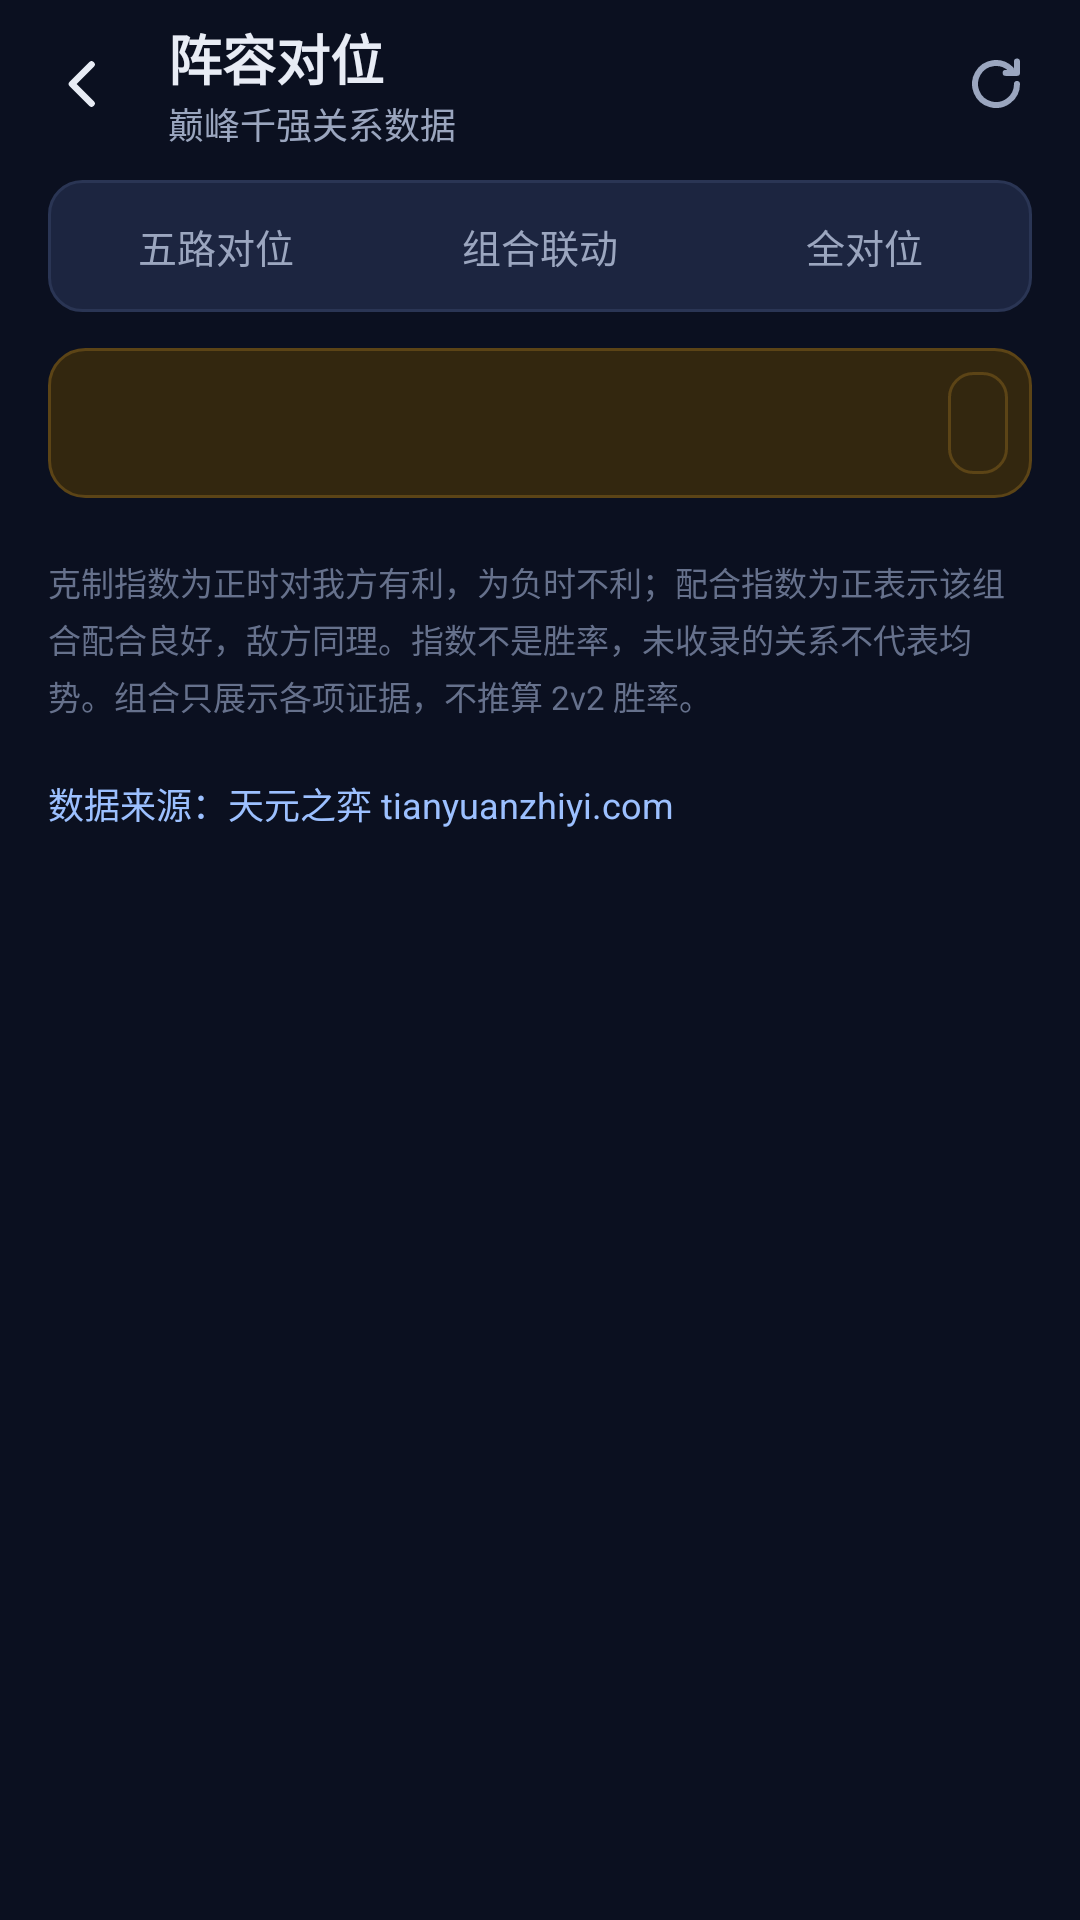

Where to tap for icons on this 1080*1920 app screen, as (x=x, y=y):
返回: (x=81, y=84)
